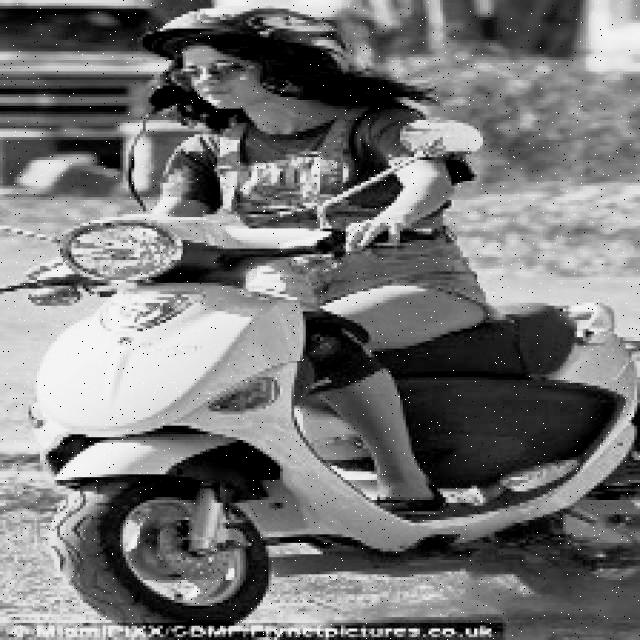Bike: (29, 217, 629, 624)
